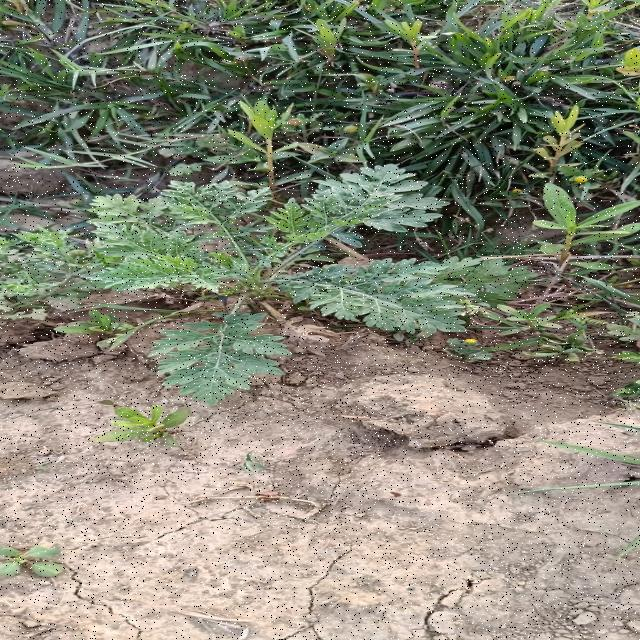plant: (0, 165, 531, 404), (57, 311, 180, 348)
